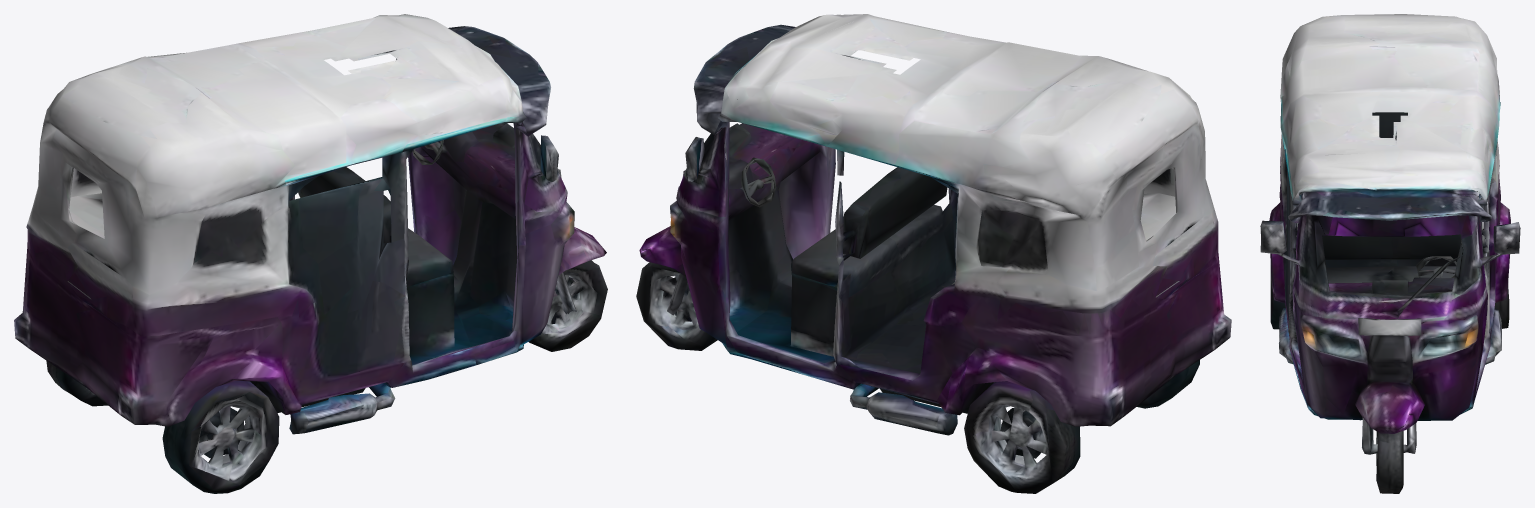
File: tukneon_1.glb
3 renders of one model, left to right at view 1: azimuth 30°, elevation 25°; view 2: azimuth 150°, elevation 25°; view 3: azimuth 270°, elevation 25°, orthographic. The views are drawn at different scales.
Visible parts, largest first — view 1: tripo_node_734a81c6-f51c-408d-b84c-cd78e36b5d59; view 2: tripo_node_734a81c6-f51c-408d-b84c-cd78e36b5d59; view 3: tripo_node_734a81c6-f51c-408d-b84c-cd78e36b5d59.
Boxes of the visible parts, left/top/right/bottom form: tripo_node_734a81c6-f51c-408d-b84c-cd78e36b5d59: left=14, top=14, right=607, bottom=493; tripo_node_734a81c6-f51c-408d-b84c-cd78e36b5d59: left=636, top=14, right=1231, bottom=493; tripo_node_734a81c6-f51c-408d-b84c-cd78e36b5d59: left=1260, top=14, right=1520, bottom=493.
Bounding box in the file's own units: 0.9975 × 0.6269 × 0.4992.
1 material, 1 textured.
